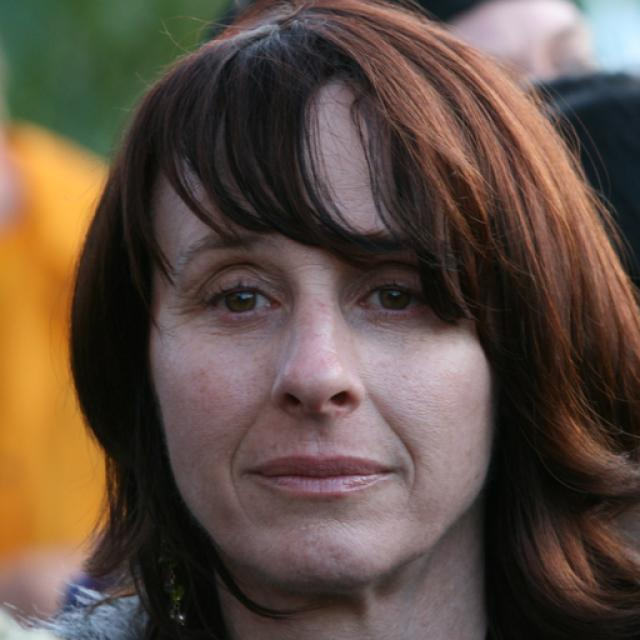Wrinkle: (379, 405, 421, 490), (225, 415, 254, 528)
